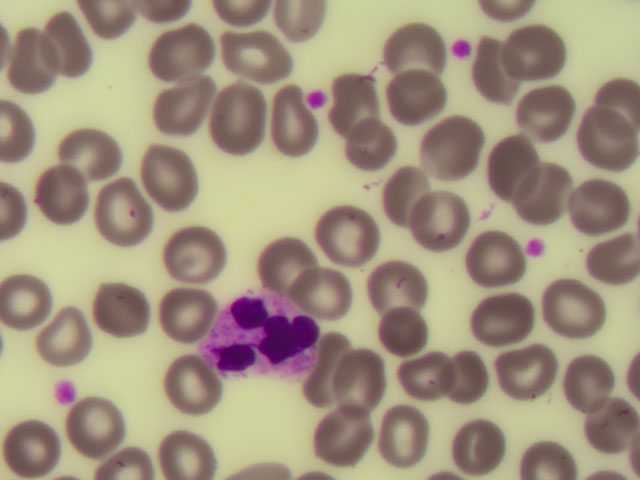Platelets: (46, 380, 75, 403), (526, 237, 547, 259), (307, 89, 329, 110), (454, 38, 473, 59)
RBC: (39, 10, 100, 68), (11, 34, 72, 92), (58, 121, 119, 179), (33, 164, 94, 222), (92, 183, 153, 241), (130, 144, 191, 202), (151, 75, 212, 133), (157, 24, 218, 82), (225, 27, 286, 85), (209, 87, 270, 145), (254, 101, 315, 159), (327, 69, 388, 127), (334, 108, 395, 166), (384, 69, 445, 127), (387, 23, 448, 81), (503, 20, 564, 78), (473, 47, 534, 105), (525, 86, 586, 144), (421, 115, 482, 173), (371, 160, 432, 218), (414, 192, 475, 250), (317, 206, 378, 264), (254, 225, 315, 283), (292, 254, 353, 312), (166, 229, 227, 287), (158, 288, 219, 346), (91, 280, 152, 338), (39, 305, 100, 363), (4, 275, 65, 333), (159, 354, 220, 412), (76, 398, 137, 456), (6, 421, 67, 479), (159, 422, 220, 480), (318, 409, 379, 467), (327, 347, 388, 405), (374, 306, 435, 364), (374, 268, 435, 326), (391, 346, 452, 404), (435, 349, 496, 407), (384, 405, 445, 463), (456, 414, 517, 472), (485, 339, 546, 397), (475, 298, 536, 356), (537, 287, 598, 345), (457, 227, 518, 285), (562, 173, 623, 231), (529, 168, 590, 226), (491, 143, 552, 201), (579, 108, 640, 166), (558, 351, 619, 409), (579, 391, 640, 449), (515, 422, 576, 480)
WBC: (215, 288, 320, 382)
